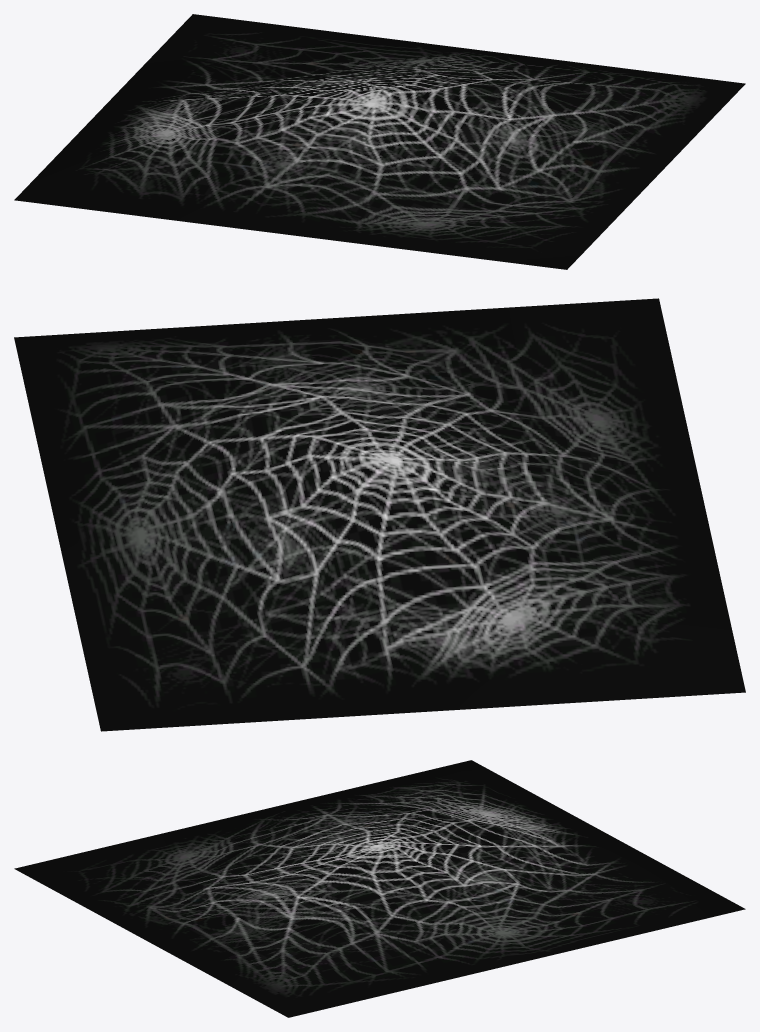
Rendered from MIRKWOOD_PLANE52.fbx.
The picture shows the model from 3 angles, top to bottom: view 1: azimuth 30°, elevation 25°; view 2: azimuth 150°, elevation 25°; view 3: azimuth 270°, elevation 25°; orthographic projection. The views are drawn at different scales.
Visible parts, largest first — view 1: MIRKWOOD_PLANE52; view 2: MIRKWOOD_PLANE52; view 3: MIRKWOOD_PLANE52.
Part boxes in pixels (left/top/right/bottom): MIRKWOOD_PLANE52: left=14, top=14, right=745, bottom=269; MIRKWOOD_PLANE52: left=14, top=298, right=745, bottom=731; MIRKWOOD_PLANE52: left=14, top=760, right=745, bottom=1017.
Bounding box in the file's own units: 305935 × 29225 × 327140.
Materials: 1 (1 with a texture image).
